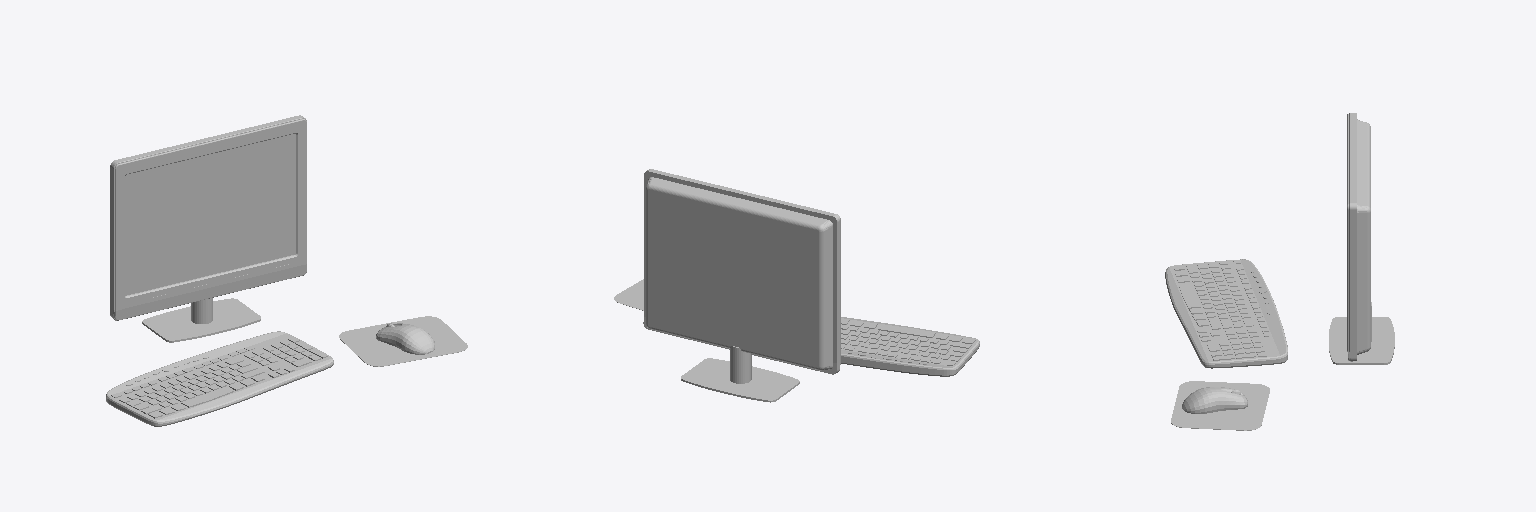
Rendered from Moniter.obj.
The picture shows the model from 3 angles: view 1: azimuth 30°, elevation 25°; view 2: azimuth 150°, elevation 25°; view 3: azimuth 270°, elevation 25°; orthographic projection.
Parts seen in each view (by area): view 1: computer_dxf_001; view 2: computer_dxf_001; view 3: computer_dxf_001.
Part boxes in pixels (bbox=[...]): computer_dxf_001: bbox=[106, 115, 467, 426]; computer_dxf_001: bbox=[614, 169, 979, 402]; computer_dxf_001: bbox=[1165, 113, 1394, 430].
Size of the model in its own units: 44.68 by 23.51 by 26.35.